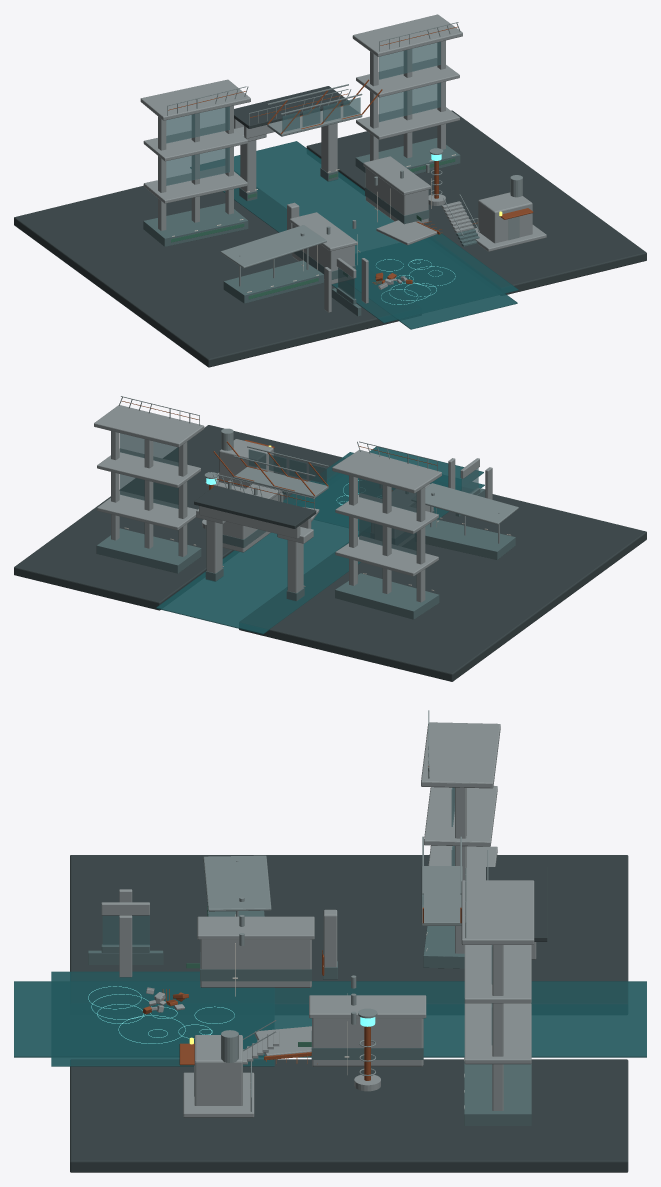
The model's file is ENV_FC01_DrownedTransitDistrict.fbx.
3 renders of one model, top to bottom at view 1: azimuth 30°, elevation 25°; view 2: azimuth 150°, elevation 25°; view 3: azimuth 270°, elevation 25°, orthographic. The views are drawn at different scales.
Visible parts, largest first — view 1: District_LeftBank, District_RightBank, District_CanalWater, SM_FC01_Water_TurbidPlane_A_Surface, SM_FC01_Building_TransitFacade_A_Roof.001, SM_FC01_Building_TransitFacade_A_Roof, SM_FC01_Building_TransitFacade_A_WetBand, SM_FC01_Station_Canopy_A_WetBand, SM_FC01_Infrastructure_ViaductSpan_A_Deck, SM_FC01_Station_Canopy_A_Roof, SM_FC01_Building_TransitFacade_A_Slab_1.001, SM_FC01_Building_TransitFacade_A_Slab_1 (+18 smaller); view 2: District_LeftBank, District_RightBank, District_CanalWater, SM_FC01_Water_TurbidPlane_A_Surface, SM_FC01_Infrastructure_ViaductSpan_A_Deck, SM_FC01_Building_TransitFacade_A_WetBand.001, SM_FC01_Building_TransitFacade_A_Roof.001, SM_FC01_Building_TransitFacade_A_Roof, SM_FC01_Building_TransitFacade_A_WetBand, SM_FC01_Station_Canopy_A_WetBand, SM_FC01_Station_Canopy_A_Roof, SM_FC01_Building_TransitFacade_A_Slab_2.001 (+13 smaller); view 3: District_RightBank, District_LeftBank, District_CanalWater, SM_FC01_Water_TurbidPlane_A_Surface, SM_FC01_Building_TransitFacade_A_Roof.001, SM_FC01_Building_TransitFacade_A_Roof, SM_FC01_Civil_Seawall_A_Caisson, SM_FC01_Civil_Seawall_A_Caisson.001, SM_FC01_Building_TransitFacade_A_WetBand.001, SM_FC01_Building_TransitFacade_A_Slab_1.001, SM_FC01_Station_Canopy_A_Roof, SM_FC01_Building_TransitFacade_A_Slab_2.001 (+17 smaller).
Boxes of the visible parts, left/top/right/bottom form: District_LeftBank: left=14, top=171, right=398, bottom=367; District_RightBank: left=306, top=110, right=646, bottom=294; District_CanalWater: left=190, top=141, right=517, bottom=329; SM_FC01_Water_TurbidPlane_A_Surface: left=331, top=232, right=518, bottom=322; SM_FC01_Building_TransitFacade_A_Roof.001: left=352, top=14, right=462, bottom=56; SM_FC01_Building_TransitFacade_A_Roof: left=140, top=79, right=250, bottom=120; SM_FC01_Building_TransitFacade_A_WetBand: left=143, top=203, right=248, bottom=246; SM_FC01_Station_Canopy_A_WetBand: left=223, top=260, right=323, bottom=303; SM_FC01_Infrastructure_ViaductSpan_A_Deck: left=234, top=86, right=349, bottom=128; SM_FC01_Station_Canopy_A_Roof: left=220, top=225, right=326, bottom=268; SM_FC01_Building_TransitFacade_A_Slab_1.001: left=356, top=100, right=459, bottom=139; SM_FC01_Building_TransitFacade_A_Slab_1: left=143, top=166, right=247, bottom=203; District_LeftBank: left=239, top=489, right=646, bottom=681; District_RightBank: left=14, top=425, right=345, bottom=610; District_CanalWater: left=156, top=446, right=483, bottom=634; SM_FC01_Water_TurbidPlane_A_Surface: left=283, top=452, right=484, bottom=532; SM_FC01_Infrastructure_ViaductSpan_A_Deck: left=194, top=486, right=316, bottom=528; SM_FC01_Building_TransitFacade_A_WetBand.001: left=96, top=528, right=201, bottom=573; SM_FC01_Building_TransitFacade_A_Roof.001: left=94, top=405, right=204, bottom=447; SM_FC01_Building_TransitFacade_A_Roof: left=332, top=450, right=441, bottom=493; SM_FC01_Building_TransitFacade_A_WetBand: left=335, top=573, right=439, bottom=619; SM_FC01_Station_Canopy_A_WetBand: left=415, top=519, right=515, bottom=559; SM_FC01_Station_Canopy_A_Roof: left=411, top=483, right=518, bottom=524; SM_FC01_Building_TransitFacade_A_Slab_2.001: left=97, top=448, right=200, bottom=487; District_RightBank: left=70, top=1059, right=628, bottom=1172; District_LeftBank: left=70, top=855, right=628, bottom=1003; District_CanalWater: left=14, top=981, right=646, bottom=1057; SM_FC01_Water_TurbidPlane_A_Surface: left=51, top=971, right=274, bottom=1066; SM_FC01_Building_TransitFacade_A_Roof.001: left=461, top=880, right=534, bottom=944; SM_FC01_Building_TransitFacade_A_Roof: left=421, top=722, right=500, bottom=788; SM_FC01_Civil_Seawall_A_Caisson: left=200, top=939, right=311, bottom=987; SM_FC01_Civil_Seawall_A_Caisson.001: left=312, top=1018, right=423, bottom=1066; SM_FC01_Building_TransitFacade_A_WetBand.001: left=464, top=1057, right=531, bottom=1125; SM_FC01_Building_TransitFacade_A_Slab_1.001: left=464, top=1003, right=531, bottom=1064; SM_FC01_Station_Canopy_A_Roof: left=203, top=855, right=271, bottom=911; SM_FC01_Building_TransitFacade_A_Slab_2.001: left=464, top=945, right=531, bottom=1003.
Size of the model in its own units: 39 by 12.75 by 34.
